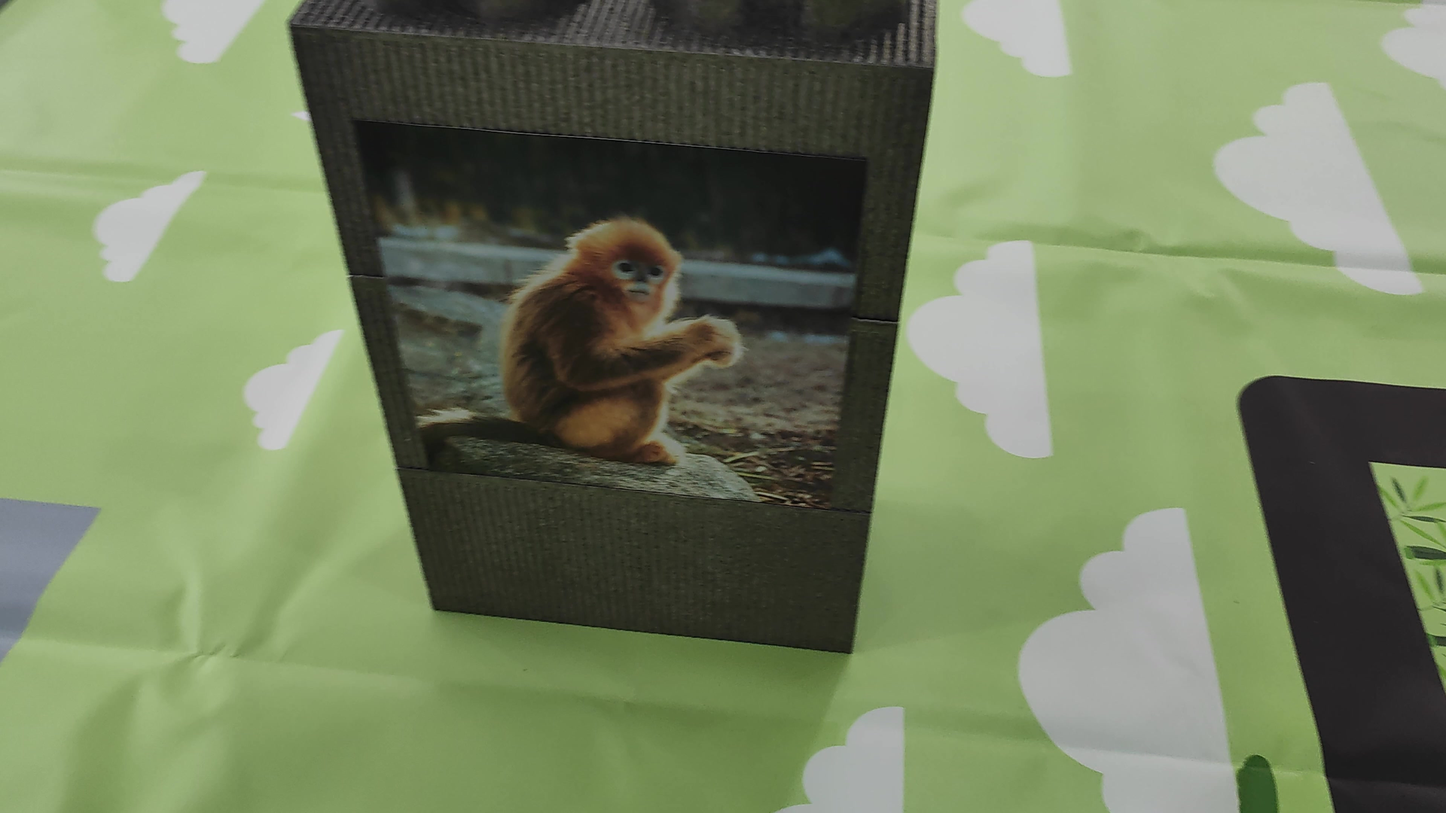monkey: (457, 153, 771, 487)
